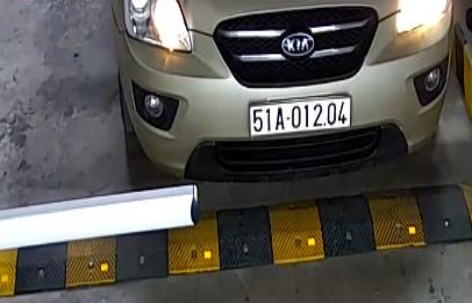plate: (248, 92, 353, 137)
